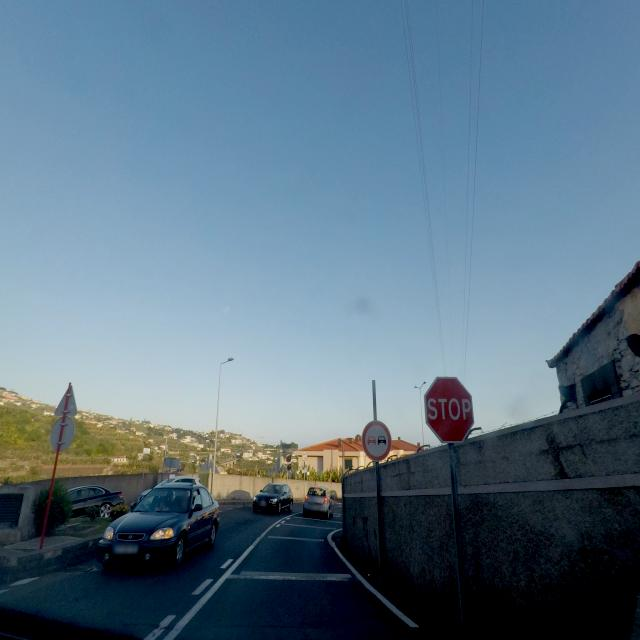car: (98, 484, 220, 569), (68, 485, 124, 519), (252, 483, 293, 514), (302, 486, 334, 519), (158, 476, 204, 490)
